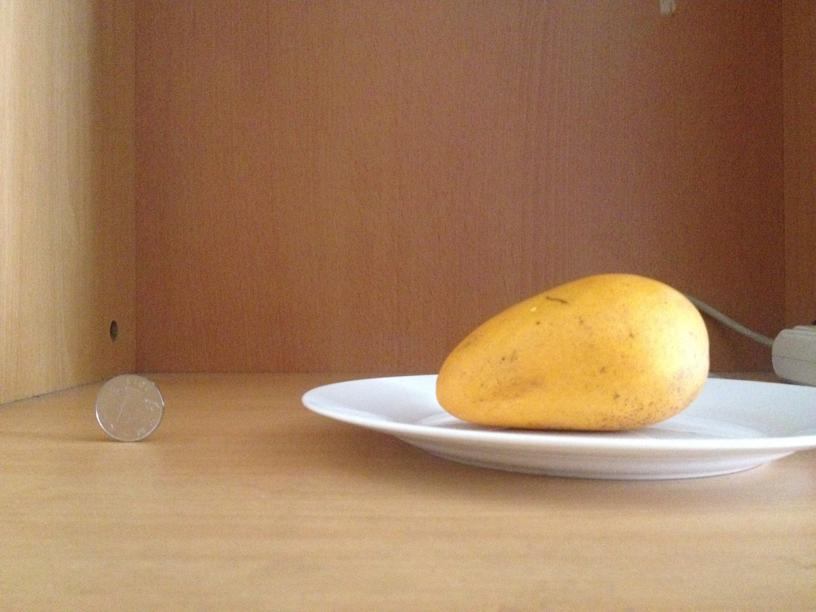coin: (91, 375, 166, 442)
mango: (437, 272, 708, 429)
